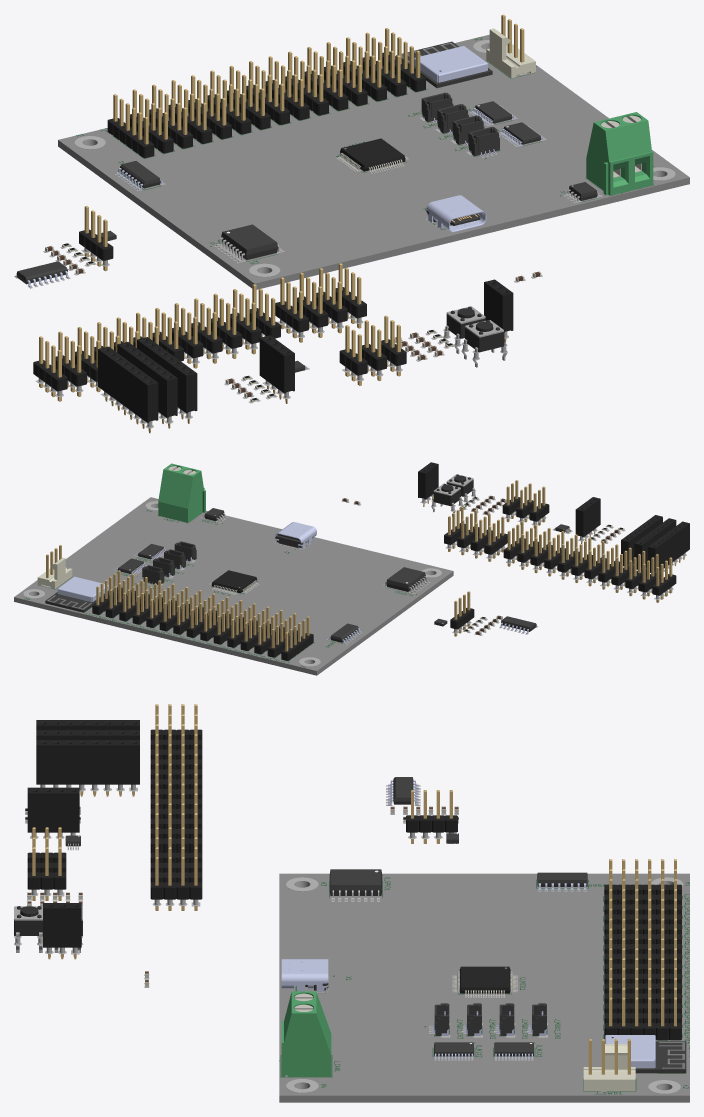
Rendered from robodev-signals.glb.
The picture shows the model from 3 angles, top to bottom: view 1: azimuth 30°, elevation 25°; view 2: azimuth 150°, elevation 25°; view 3: azimuth 270°, elevation 25°; orthographic projection. The views are drawn at different scales.
Parts seen in each view (by area): view 1: =>[0:1:1:26], =>[0:1:1:23], J_CAN1, J_GPIO_EXP1, U_WIFI1, J_SWD1, J_GPIO_PWR1, J_OLED1, J_GPIO_GND1, J_SPI1, X1, U_MCU1 (+40 smaller); view 2: =>[0:1:1:26], =>[0:1:1:23], J_CAN1, U_WIFI1, J_GPIO_EXP1, J_SWD1, J_OLED1, =>[0:1:1:24], J_SPI1, X1, U_MCU1, J_GPIO_PWR1 (+42 smaller); view 3: =>[0:1:1:26], J_GPIO_PWR1, =>[0:1:1:23], J_CAN1, J_OLED1, U_WIFI1, J_SWD1, =>[0:1:1:24], J_GPIO1, U_MCU1, J_SPI15, X1 (+40 smaller).
Part boxes in pixels (<box>): =>[0:1:1:26]: <box>58,34,689,289</box>; =>[0:1:1:23]: <box>14,40,675,428</box>; J_CAN1: <box>586,112,653,195</box>; J_GPIO_EXP1: <box>98,346,158,433</box>; U_WIFI1: <box>396,41,492,87</box>; J_SWD1: <box>486,14,535,78</box>; J_GPIO_PWR1: <box>137,337,197,423</box>; J_OLED1: <box>259,335,294,403</box>; J_GPIO_GND1: <box>117,342,177,428</box>; J_SPI1: <box>107,94,154,158</box>; X1: <box>426,195,486,232</box>; U_MCU1: <box>338,138,407,172</box>; =>[0:1:1:26]: <box>14,497,453,675</box>; =>[0:1:1:23]: <box>23,490,686,666</box>; J_CAN1: <box>158,463,205,522</box>; U_WIFI1: <box>45,576,108,612</box>; J_GPIO_EXP1: <box>648,521,689,572</box>; J_SWD1: <box>37,545,72,589</box>; J_OLED1: <box>575,497,600,543</box>; =>[0:1:1:24]: <box>24,510,416,667</box>; J_SPI1: <box>281,616,313,660</box>; X1: <box>275,522,316,549</box>; U_MCU1: <box>210,570,258,594</box>; J_GPIO_PWR1: <box>621,515,662,566</box>; =>[0:1:1:26]: <box>279,873,689,1102</box>; J_GPIO_PWR1: <box>36,740,139,796</box>; =>[0:1:1:23]: <box>14,784,683,1093</box>; J_CAN1: <box>281,991,331,1076</box>; J_OLED1: <box>27,787,79,832</box>; U_WIFI1: <box>605,1035,686,1073</box>; J_SWD1: <box>583,1039,635,1091</box>; =>[0:1:1:24]: <box>279,877,689,1094</box>; J_GPIO1: <box>43,903,81,959</box>; U_MCU1: <box>454,966,515,996</box>; J_SPI15: <box>604,997,681,1040</box>; X1: <box>281,959,328,992</box>.
Bounding box in the file's own units: 0.1642 × 0.0173 × 0.1326.
